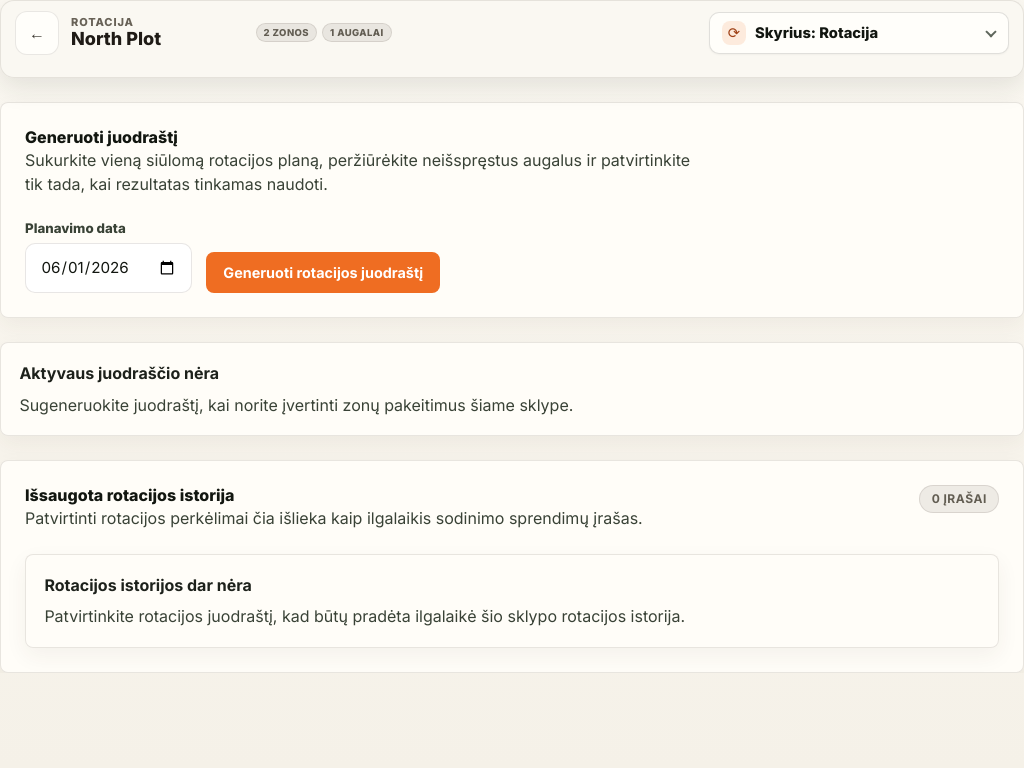
Test: PlotRotationPage › shows blocked rotation zones and keeps an unresolved draft unconfirmable
Check: the heading "North Plot" is shown, box [71,28,161,49]
Click the button "Generuoti rotacijos juodraštį" at (323, 273), box [206,252,440,293]
(page scrolled)
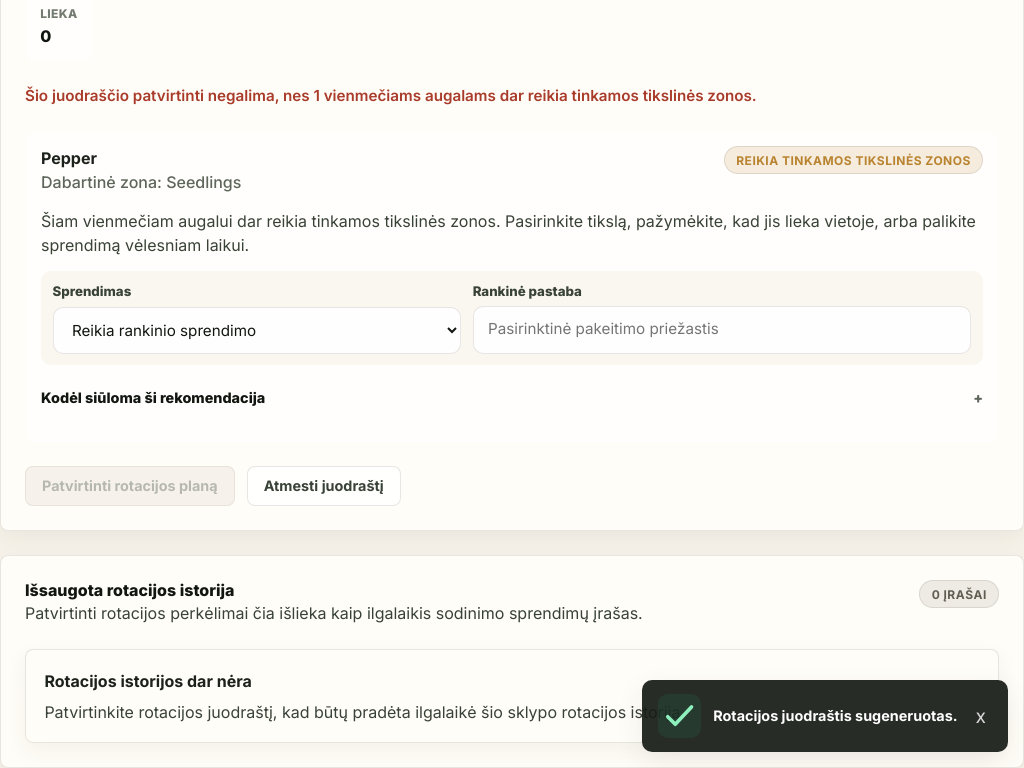
Check: the text "Pepper" is shown, box [41,148,97,168]
Check: the text "Šio juodraščio patvirtinti negalima, nes 1 vienmečiams augalams dar reikia tinkamos tikslinės zonos." is shown, box [25,86,757,105]
Check: the text "Reikia tinkamos tikslinės zonos" is shown, box [724,146,983,174]
